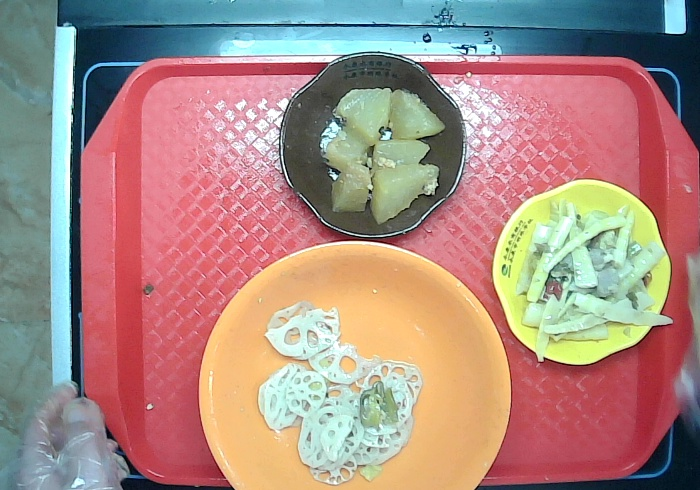YKMZ-Huang_Se_Ao_Bian_Wan: (486, 174, 676, 373)
YKMZ-Ju_Se_Tang_Wan: (190, 228, 513, 490)
YKMZ-Ka_Fei_Ao_Bian_Wan: (272, 47, 474, 244)
